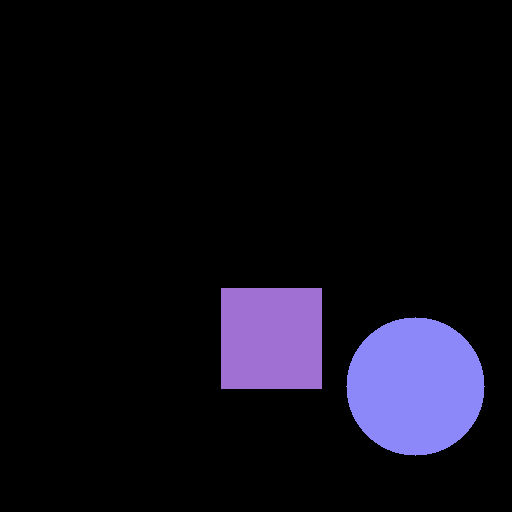circle: (346, 317, 484, 455)
square: (221, 288, 321, 388)
